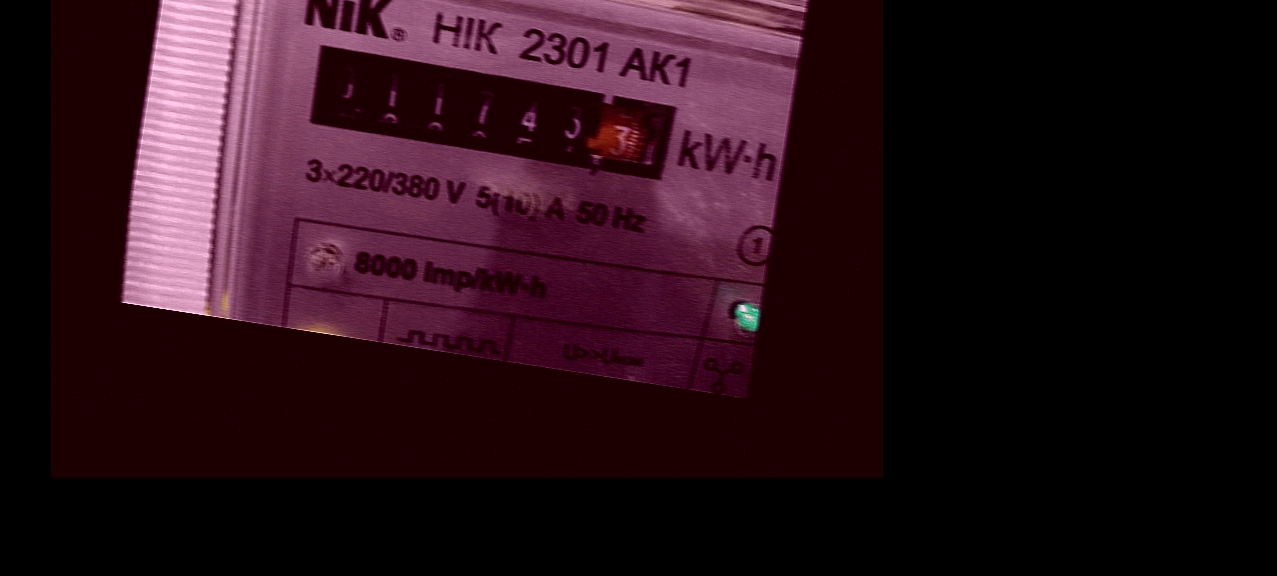0: (332, 57, 360, 99), (381, 64, 405, 107)
1: (428, 72, 450, 115)
3: (560, 96, 587, 141), (607, 116, 632, 156)
4: (516, 89, 542, 131)
7: (470, 79, 499, 126)
screen: (287, 25, 687, 189)
